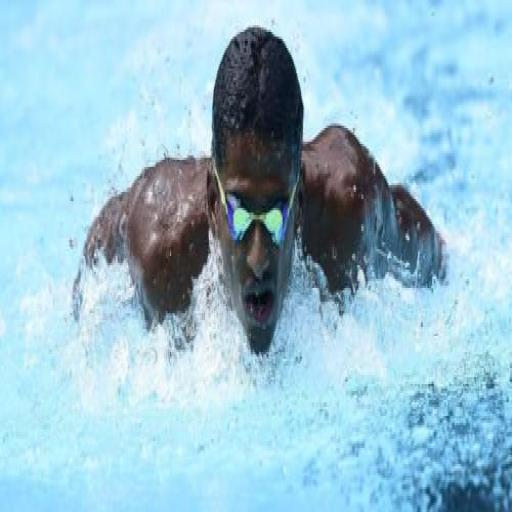swimming: (70, 23, 448, 368)
